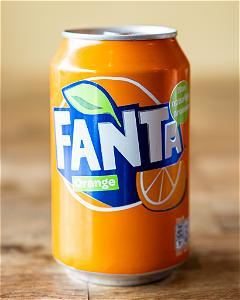metal: (50, 26, 190, 286)
